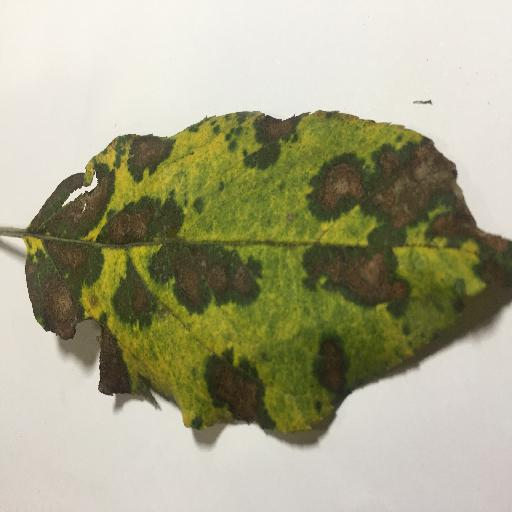Brown_Spot: (32, 179, 269, 433), (304, 138, 512, 301), (308, 338, 351, 399), (248, 115, 302, 153), (131, 140, 160, 170)
